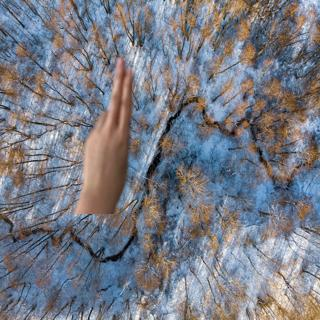DHAVE: (76, 55, 145, 203)
